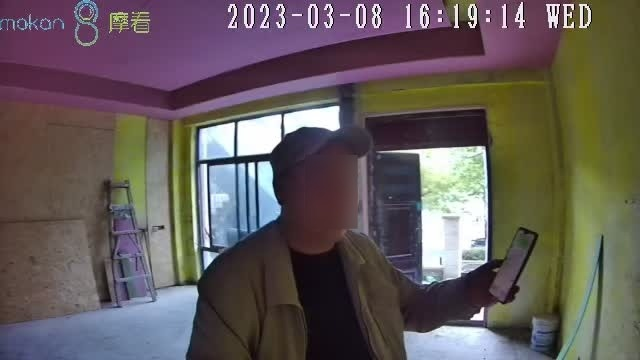people: (185, 127, 505, 360)
window: (199, 106, 346, 249)
